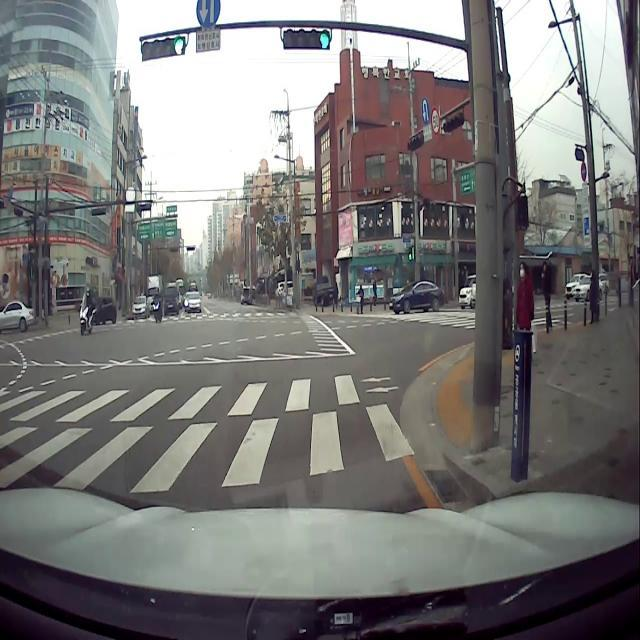crosswalk: (1, 371, 416, 493), (348, 310, 571, 335), (126, 310, 290, 323)
